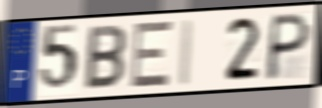2: (225, 15, 263, 83)
5: (38, 23, 80, 98)
B: (82, 24, 128, 92)
E: (128, 19, 175, 91)
I: (175, 17, 196, 89)
P: (263, 10, 314, 82)
